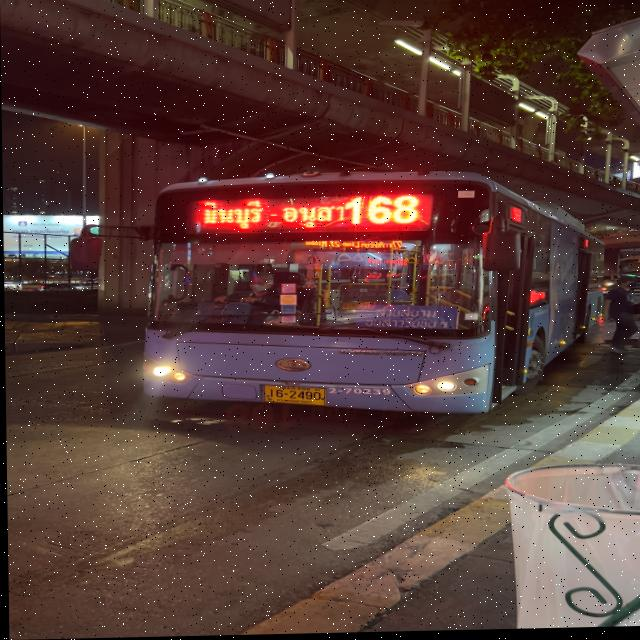BMTA-bus: (140, 172, 593, 418)
Bus Line Number: (339, 191, 424, 231)
Bus Side Number: (326, 384, 392, 402)
Destination Sign: (354, 304, 456, 339)
